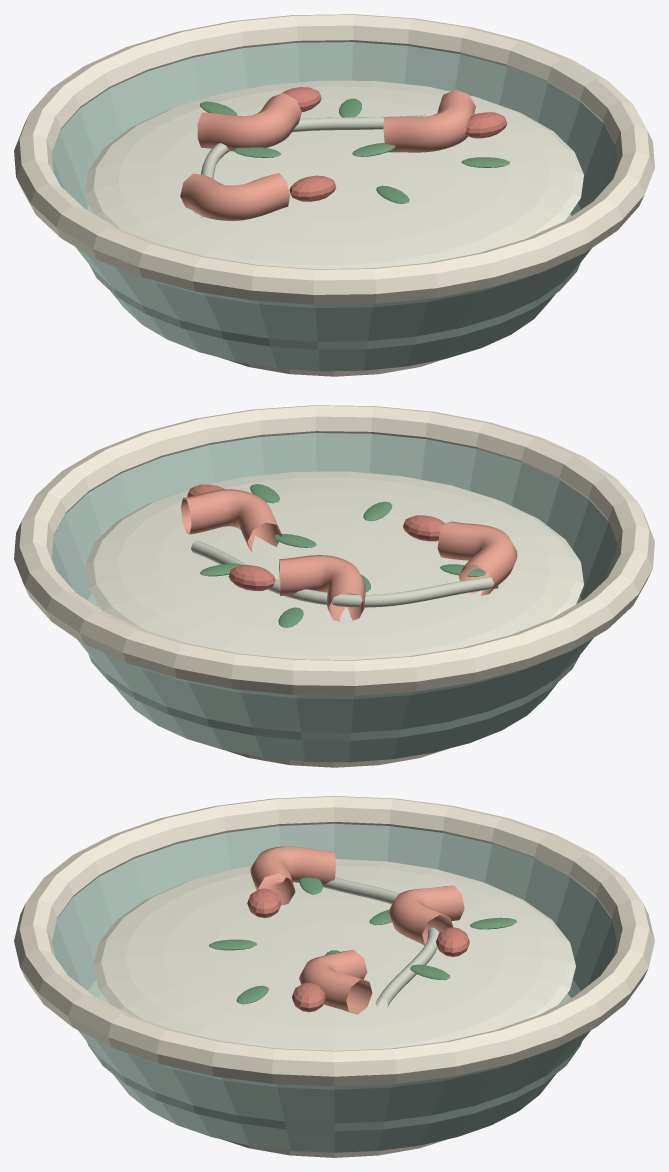
Rendered from mixed_shrimp_batter.glb.
3 views of the same model, one above another, from view 1: azimuth 30°, elevation 25°; view 2: azimuth 150°, elevation 25°; view 3: azimuth 270°, elevation 25° (orthographic).
Visible parts, largest first — view 1: fresh_rice_batter_surface, shrimp_batter_transfer_bowl_hollow_profile, shrimp_batter_transfer_bowl_rolled_lip, shrimp_curled_in_batter_0, shrimp_curled_in_batter_2, shrimp_curled_in_batter_1, rice_batter_fold, shrimp_tail_tip_0, shrimp_batter_transfer_bowl_foot_ring, shrimp_tail_tip_1, shrimp_tail_tip_2; view 2: fresh_rice_batter_surface, shrimp_batter_transfer_bowl_hollow_profile, shrimp_batter_transfer_bowl_rolled_lip, shrimp_curled_in_batter_1, shrimp_curled_in_batter_0, shrimp_curled_in_batter_2, rice_batter_fold, shrimp_tail_tip_2, shrimp_batter_transfer_bowl_foot_ring, shrimp_tail_tip_0; view 3: fresh_rice_batter_surface, shrimp_batter_transfer_bowl_hollow_profile, shrimp_batter_transfer_bowl_rolled_lip, shrimp_curled_in_batter_0, shrimp_curled_in_batter_1, shrimp_curled_in_batter_2, rice_batter_fold, shrimp_batter_transfer_bowl_foot_ring, shrimp_tail_tip_2, shrimp_tail_tip_0, shrimp_tail_tip_1.
Part boxes in pixels (left/top/right/bottom): fresh_rice_batter_surface: left=85, top=80, right=583, bottom=268; shrimp_batter_transfer_bowl_hollow_profile: left=52, top=42, right=616, bottom=371; shrimp_batter_transfer_bowl_rolled_lip: left=14, top=14, right=654, bottom=304; shrimp_curled_in_batter_0: left=180, top=173, right=289, bottom=220; shrimp_curled_in_batter_2: left=197, top=93, right=301, bottom=151; shrimp_curled_in_batter_1: left=383, top=89, right=475, bottom=152; rice_batter_fold: left=194, top=114, right=426, bottom=217; shrimp_tail_tip_0: left=289, top=175, right=336, bottom=201; shrimp_batter_transfer_bowl_foot_ring: left=221, top=358, right=443, bottom=376; shrimp_tail_tip_1: left=465, top=112, right=507, bottom=138; shrimp_tail_tip_2: left=281, top=87, right=321, bottom=111; fresh_rice_batter_surface: left=85, top=471, right=583, bottom=659; shrimp_batter_transfer_bowl_hollow_profile: left=52, top=433, right=616, bottom=762; shrimp_batter_transfer_bowl_rolled_lip: left=14, top=405, right=654, bottom=695; shrimp_curled_in_batter_1: left=181, top=489, right=281, bottom=551; shrimp_curled_in_batter_0: left=437, top=521, right=517, bottom=595; shrimp_curled_in_batter_2: left=279, top=555, right=365, bottom=621; rice_batter_fold: left=191, top=540, right=498, bottom=607; shrimp_tail_tip_2: left=228, top=565, right=275, bottom=590; shrimp_batter_transfer_bowl_foot_ring: left=225, top=749, right=447, bottom=767; shrimp_tail_tip_0: left=403, top=515, right=444, bottom=541; fresh_rice_batter_surface: left=93, top=859, right=575, bottom=1050; shrimp_batter_transfer_bowl_hollow_profile: left=52, top=823, right=616, bottom=1152; shrimp_batter_transfer_bowl_rolled_lip: left=14, top=796, right=654, bottom=1086; shrimp_curled_in_batter_0: left=250, top=846, right=335, bottom=905; shrimp_curled_in_batter_1: left=299, top=949, right=372, bottom=1014; shrimp_curled_in_batter_2: left=389, top=885, right=464, bottom=949; rice_batter_fold: left=323, top=877, right=439, bottom=1007; shrimp_batter_transfer_bowl_foot_ring: left=223, top=1139, right=445, bottom=1157; shrimp_tail_tip_2: left=436, top=927, right=469, bottom=956; shrimp_tail_tip_0: left=247, top=888, right=281, bottom=918; shrimp_tail_tip_1: left=292, top=982, right=325, bottom=1012.
Size of the model in its own units: 0.6765 by 0.2008 by 0.6765.
